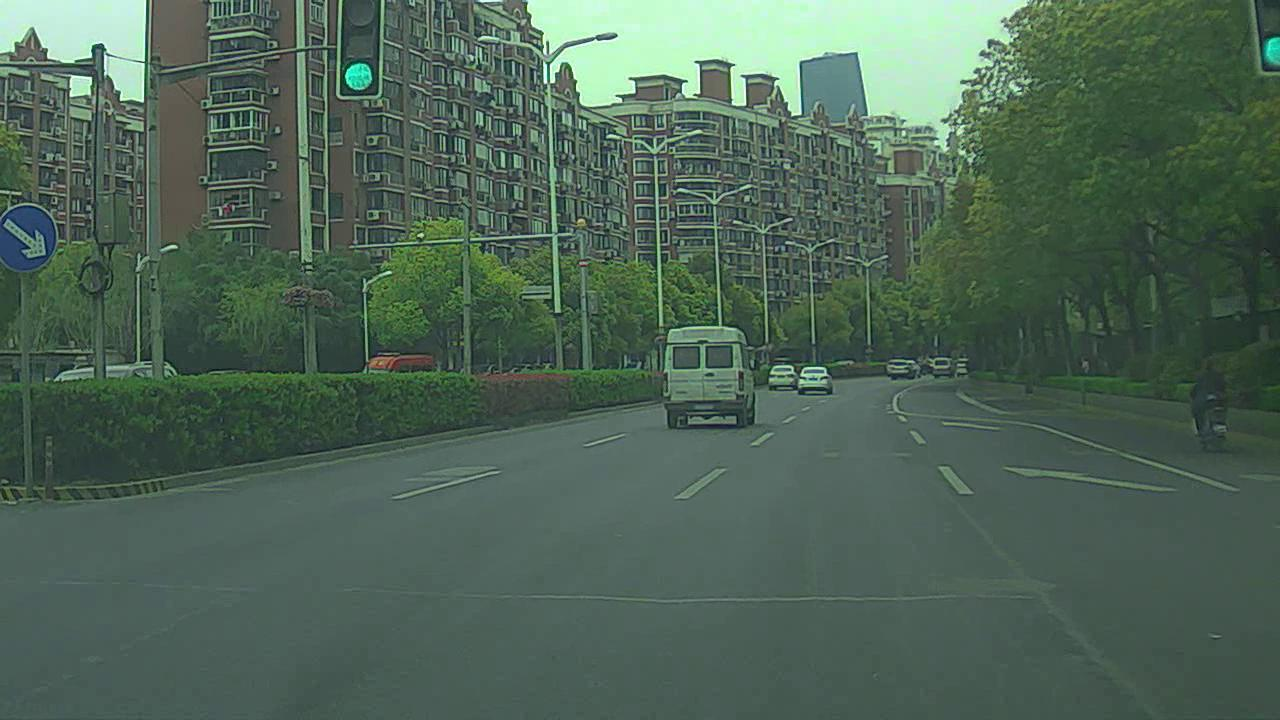traffic_light: (338, 1, 384, 104)
